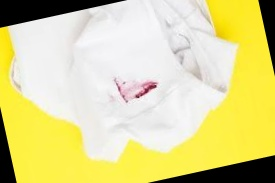lipstick: (111, 68, 164, 106)
